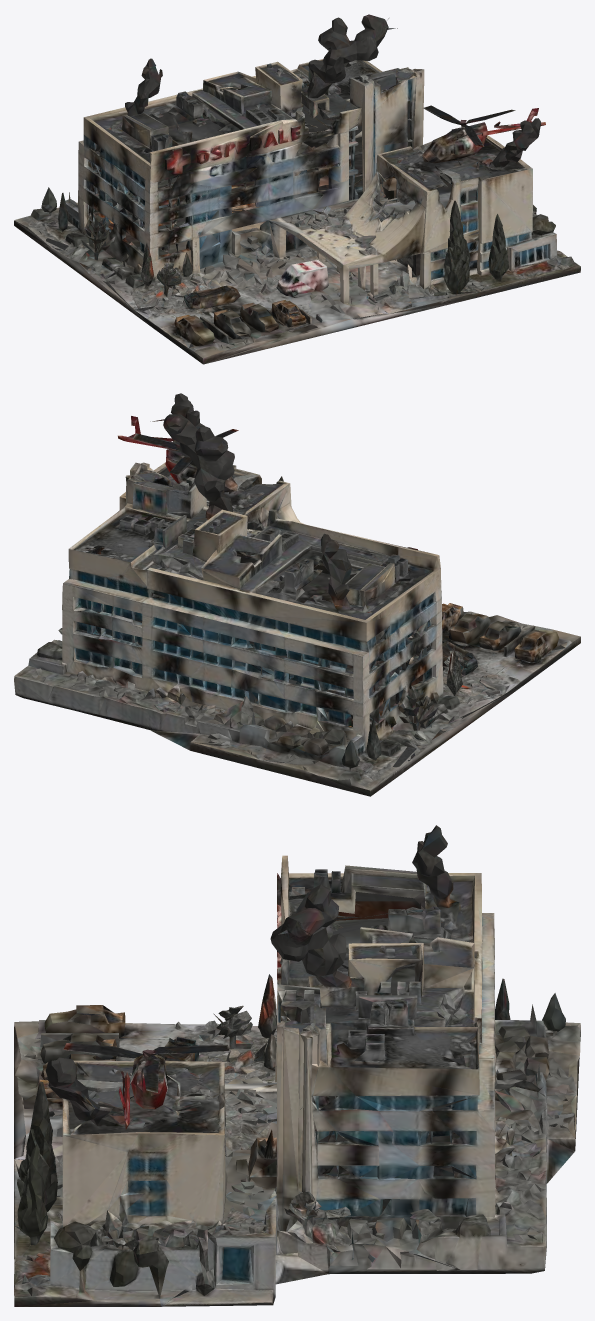
File: ospedale_dev.glb
3 renders of one model, top to bottom at view 1: azimuth 30°, elevation 25°; view 2: azimuth 150°, elevation 25°; view 3: azimuth 270°, elevation 25°, orthographic. The views are drawn at different scales.
Parts seen in each view (by area): view 1: output_unwrapped; view 2: output_unwrapped; view 3: output_unwrapped.
Boxes of the visible parts, x1,y1,x2,y2 form: output_unwrapped: (14, 14, 580, 364); output_unwrapped: (14, 393, 580, 796); output_unwrapped: (14, 825, 580, 1306).
Size of the model in its own units: 1.83 by 0.9818 by 1.58.
1 material, 1 textured.
